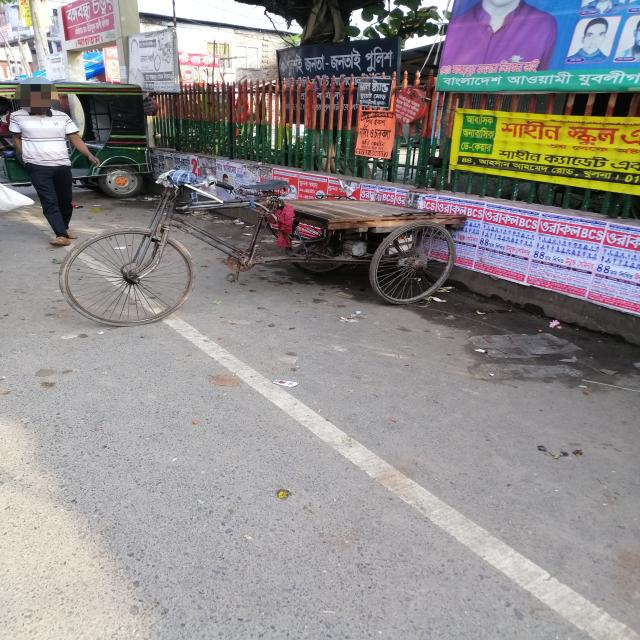Van: (35, 170, 473, 329)
